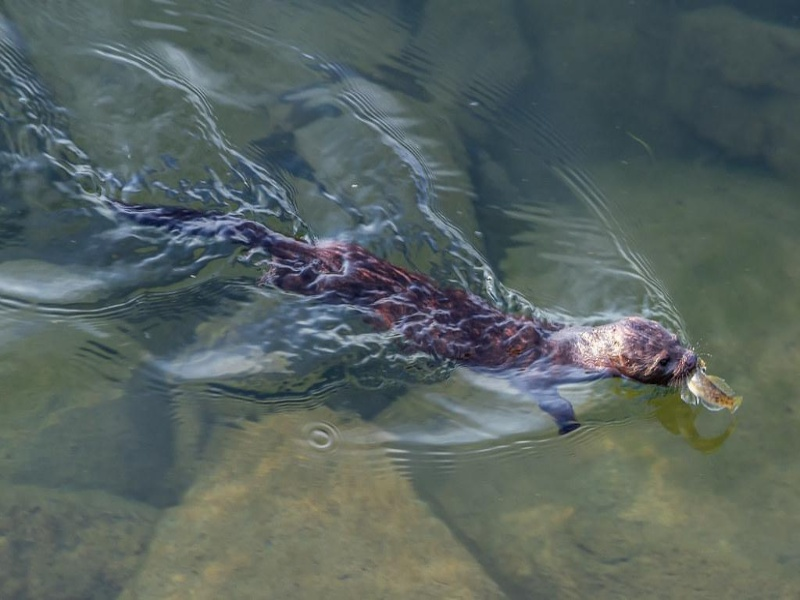minkish: (123, 194, 700, 394)
